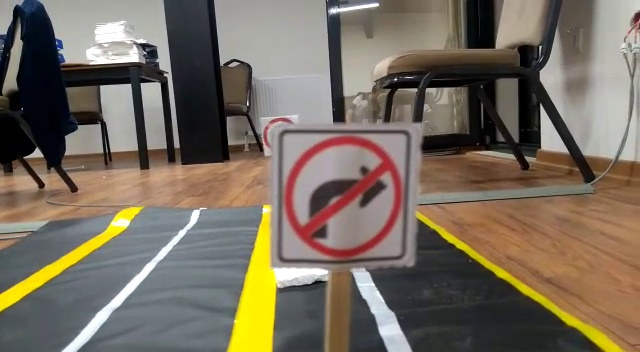saga_donulmez: (279, 130, 410, 258)
